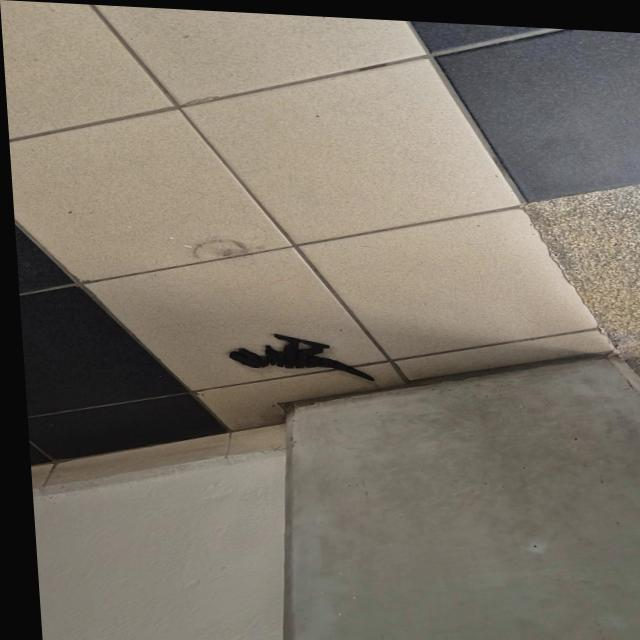dino: (226, 331, 375, 382)
